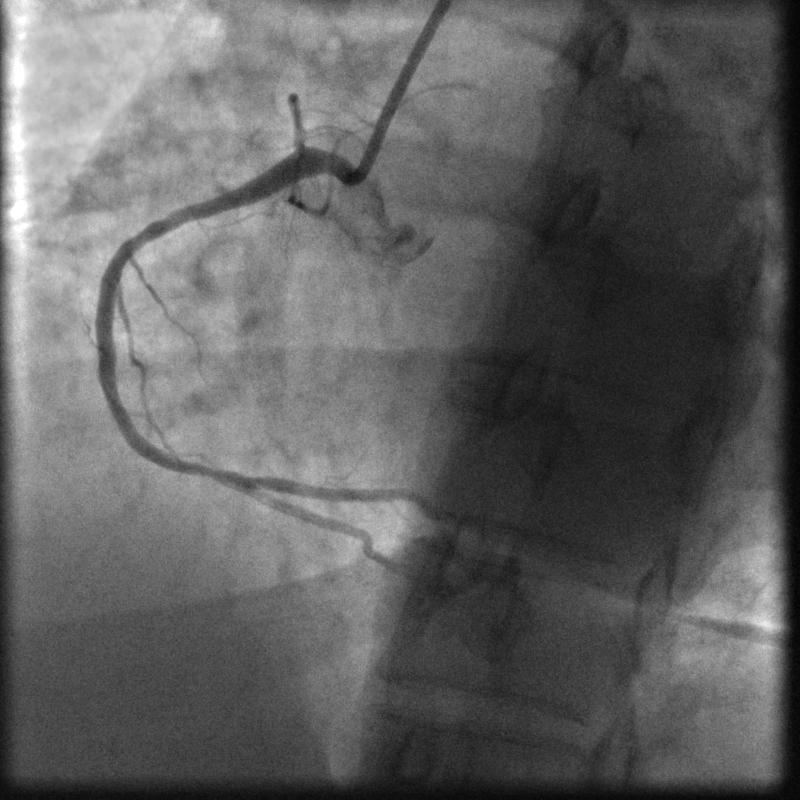Stenosis: (182, 453, 243, 496)
